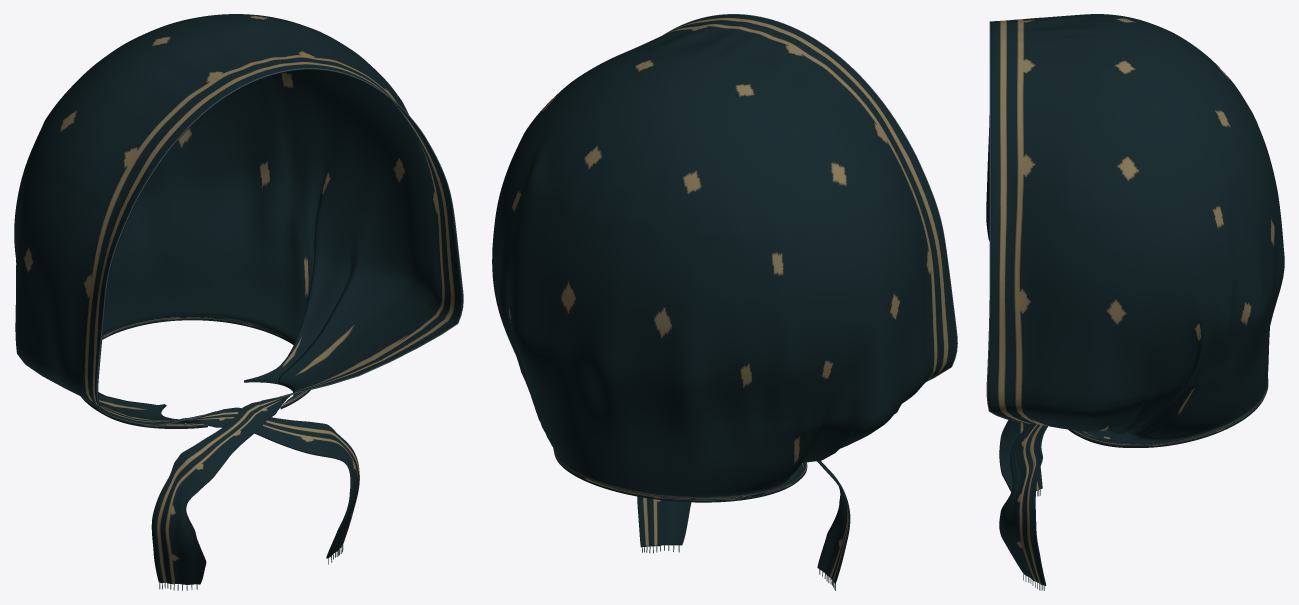
The model's file is Feminine-sweatshirt-volume-pashmina248-headgear.glb.
3 renders of one model, left to right at view 1: azimuth 30°, elevation 25°; view 2: azimuth 150°, elevation 25°; view 3: azimuth 270°, elevation 25°, orthographic. The views are drawn at different scales.
Parts seen in each view (by area): view 1: 226 headgear / Headwear / continuous woven pashmina239, 226 headgear / Headwear / face edge239; view 2: 226 headgear / Headwear / continuous woven pashmina239, 226 headgear / Headwear / face edge239; view 3: 226 headgear / Headwear / continuous woven pashmina239, 226 headgear / Headwear / face edge239.
Part boxes in pixels (left/top/right/bottom): 226 headgear / Headwear / continuous woven pashmina239: left=14, top=14, right=462, bottom=584; 226 headgear / Headwear / face edge239: left=96, top=68, right=463, bottom=425; 226 headgear / Headwear / continuous woven pashmina239: left=492, top=14, right=956, bottom=584; 226 headgear / Headwear / face edge239: left=664, top=14, right=957, bottom=381; 226 headgear / Headwear / continuous woven pashmina239: left=986, top=14, right=1284, bottom=585; 226 headgear / Headwear / face edge239: left=986, top=21, right=1029, bottom=423.
Size of the model in its own units: 1.02 by 1.35 by 0.7113.
3 materials, 1 textured.
